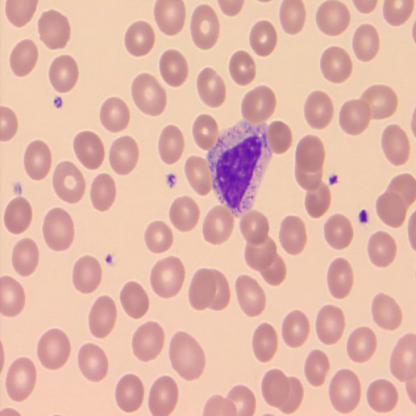Myelocyte: (207, 120, 273, 218)
